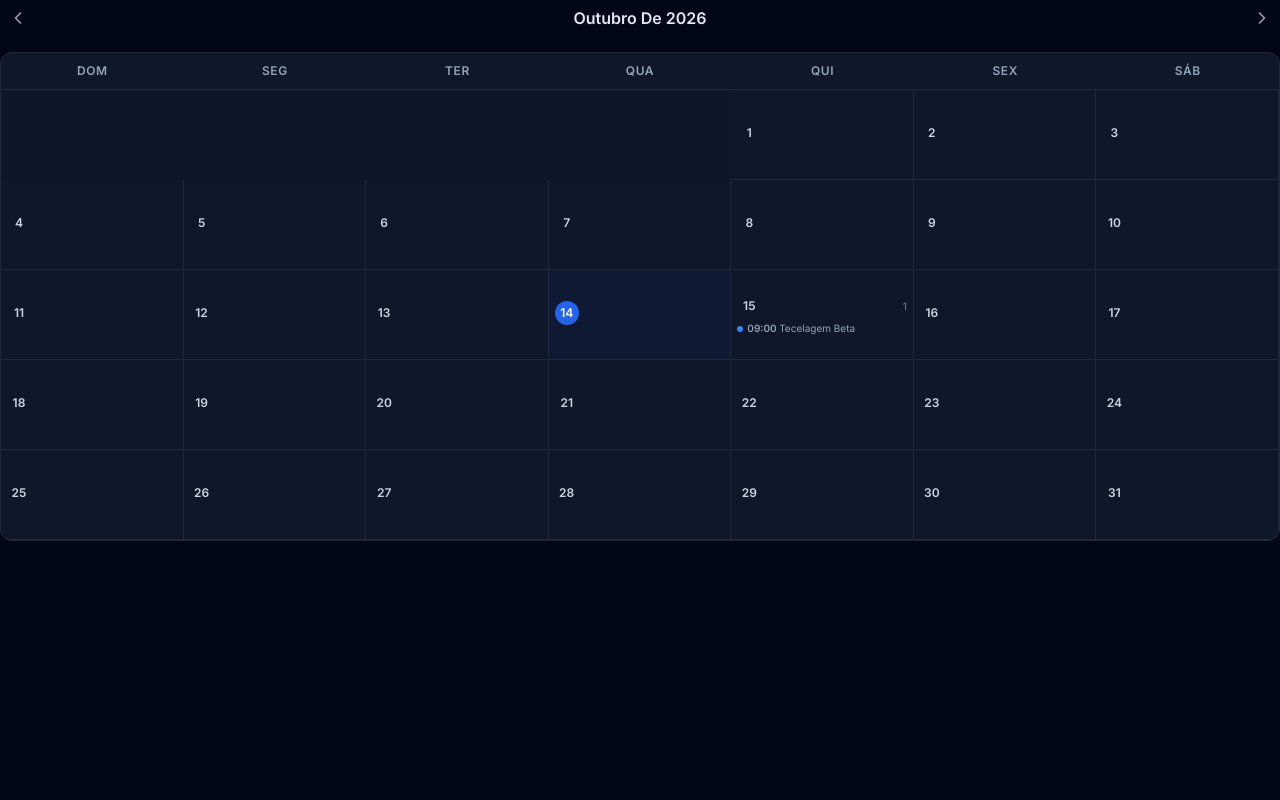
VisitasCalendario › abre o dialog do dia ao clicar num dia com visita
Step 1. Click the button "15 1 09:00 Tecelagem Beta" → {"x": 823, "y": 315}, box [731,270,914,360]
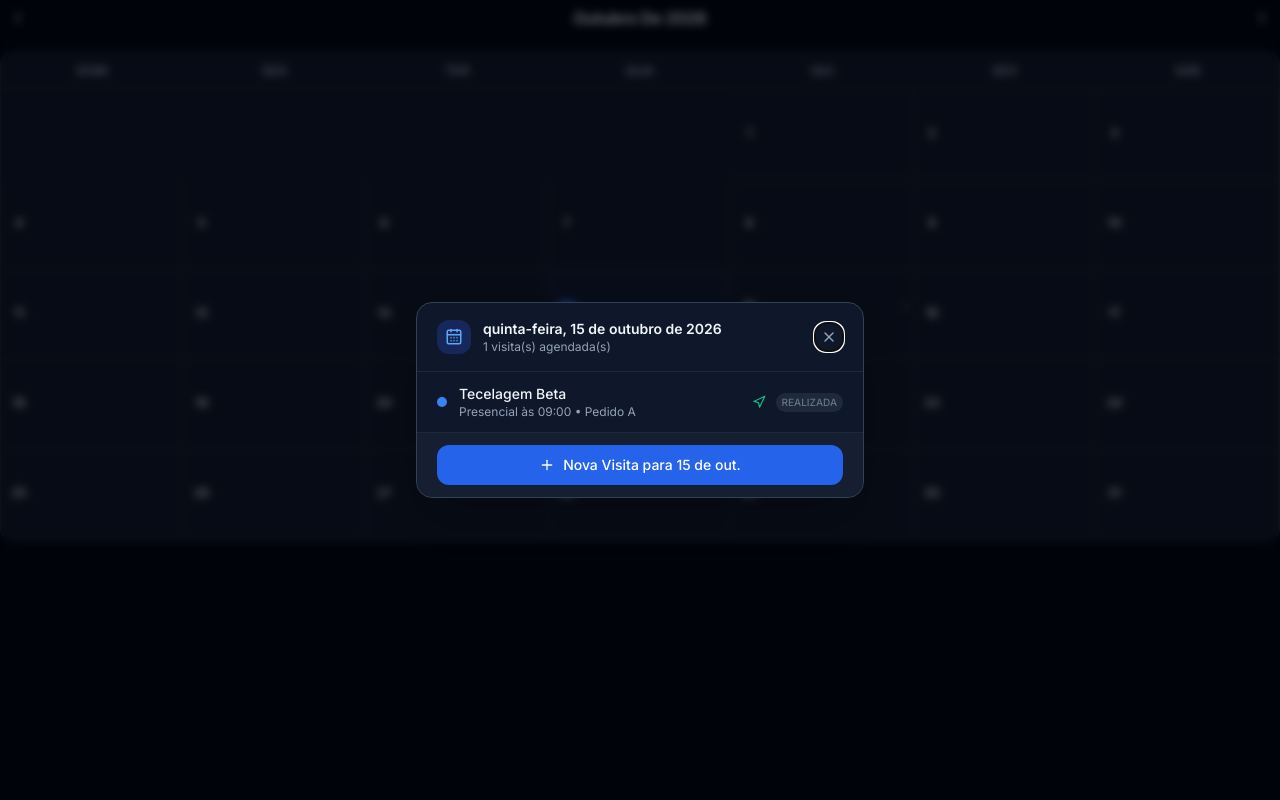
Expected: the text "Tecelagem Beta" is shown, [459,385,566,402]
Expected: the text "Presencial às 09:00 • Pedido A" is shown, [459,404,636,419]
Expected: the link named "Abrir no Google Maps" is shown, [752,395,766,409]
